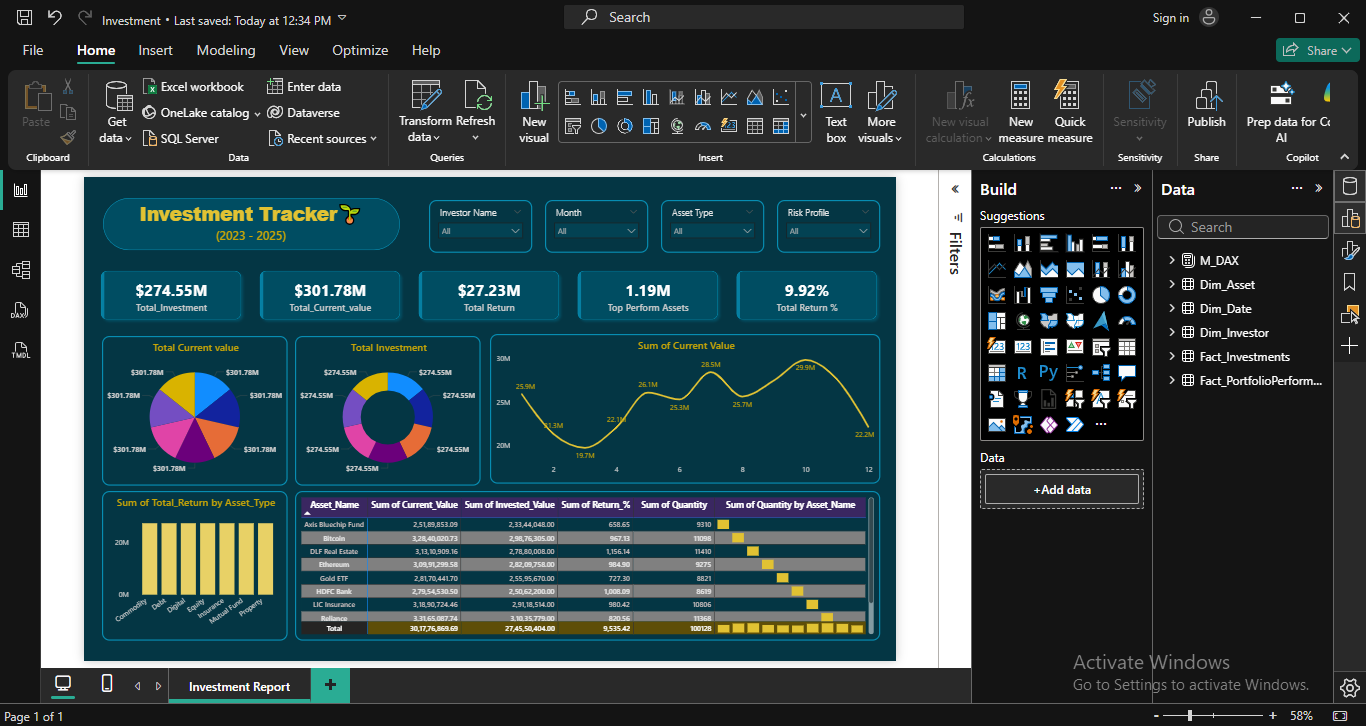

Layout of this report page (visuals, bound fields, positions):
{"tool":"powerbi","page":{"name":"Investment Report ","canvas":[1400,835],"ordinal":0},"visuals":[{"type":"cardVisual","fields":{"Data":["M_DAX.Total_Investment","M_DAX.Total_Current_value","M_DAX.Total Return","M_DAX.Top Perform Assets","M_DAX.Total Return %"]},"box":[0,132,1400,142],"z":0},{"type":"shape","box":[32,36,512,90],"z":1000},{"type":"card","fields":{"Values":["M_DAX.Title"]},"box":[88,28,400,74],"z":2000},{"type":"card","fields":{"Values":["M_DAX.Sub Title"]},"box":[120,72,334,60],"z":3000},{"type":"pieChart","title":"Total Current value ","fields":{"Y":["M_DAX.Total_Current_value"],"Category":["Dim_Asset.Asset_Type"]},"box":[31.1,273.3,320,257.8],"z":4000},{"type":"donutChart","title":"Total Investment ","fields":{"Y":["M_DAX.Total_Investment"],"Category":["Dim_Asset.Asset_Type"]},"box":[364.4,273.3,320,257.8],"z":5000},{"type":"lineChart","title":"Sum of Current Value ","fields":{"Category":["Dim_Date.Month Number"],"Y":["Sum(Fact_Investments.Current_Value)"]},"box":[700,271.1,673.3,257.8],"z":6000},{"type":"clusteredColumnChart","fields":{"Category":["Dim_Asset.Asset_Type"],"Y":["Sum(Fact_PortfolioPerformance.Total_Return)"]},"box":[31.1,542.2,320,257.8],"z":7000},{"type":"pivotTable","fields":{"Rows":["Dim_Asset.Asset_Name"],"Values":["Sum(Fact_Investments.Current_Value)","Sum(Fact_Investments.Invested_Value)","Sum(Fact_Investments.Return_%)","Sum(Fact_Investments.Quantity)","SparklineData(Sum(Fact_Investments.Quantity)_[Dim_Asset.Asset_Name])"]},"box":[364.4,542.2,1008.9,257.8],"z":8000},{"type":"slicer","fields":{"Values":["Dim_Investor.Investor_Name"]},"box":[595.6,40,177.8,91.1],"z":9000},{"type":"slicer","fields":{"Values":["Dim_Date.Month"]},"box":[795.6,40,177.8,91.1],"z":10000},{"type":"slicer","fields":{"Values":["Dim_Asset.Asset_Type"]},"box":[995.6,40,177.8,91.1],"z":11000},{"type":"slicer","fields":{"Values":["Dim_Investor.Risk_Profile"]},"box":[1195.6,40,177.8,91.1],"z":12000}]}

Visuals, with their boxes on the page's 1400x835 design canvas (x1, y1, x2, y2). These are canvas units, not pixel positions in the 1366x726 screenshot, which may show the page scaled, cropped or inside an application window:
cardVisual - M_DAX.Total_Investment x M_DAX.Total_Current_value: x1=0 y1=132 x2=1400 y2=274
shape: x1=32 y1=36 x2=544 y2=126
card - M_DAX.Title: x1=88 y1=28 x2=488 y2=102
card - M_DAX.Sub Title: x1=120 y1=72 x2=454 y2=132
"Total Current value " pieChart: x1=31 y1=273 x2=351 y2=531
"Total Investment " donutChart: x1=364 y1=273 x2=684 y2=531
"Sum of Current Value " lineChart: x1=700 y1=271 x2=1373 y2=529
clusteredColumnChart - Dim_Asset.Asset_Type x Sum(Fact_PortfolioPerformance.Total_Return): x1=31 y1=542 x2=351 y2=800
pivotTable - Dim_Asset.Asset_Name x Sum(Fact_Investments.Current_Value): x1=364 y1=542 x2=1373 y2=800
slicer - Dim_Investor.Investor_Name: x1=596 y1=40 x2=773 y2=131
slicer - Dim_Date.Month: x1=796 y1=40 x2=973 y2=131
slicer - Dim_Asset.Asset_Type: x1=996 y1=40 x2=1173 y2=131
slicer - Dim_Investor.Risk_Profile: x1=1196 y1=40 x2=1373 y2=131
